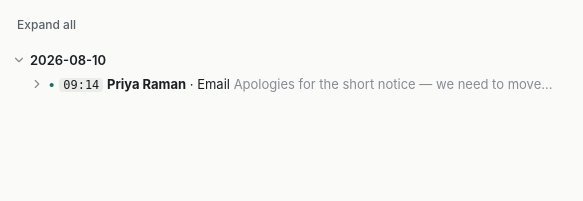
Scenario: a log of records › folds the records when told to fold all, and leaves the days standing
This screenshot has width=583, height=201.
What coordinates should you click on to do the following:
click the button with aria-label "Expand all points in Log"
I would click on:
 (46, 25)
Its box is [12,12,81,38].
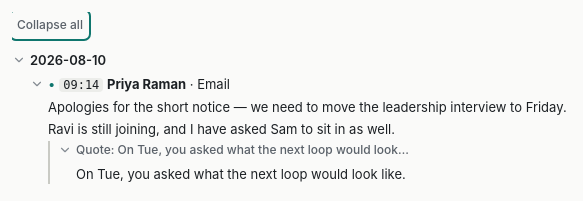
Now the text "Ravi is still joining" is shown, box [48,121,395,137]
What coordinates should you click on to do the following:
click the button with aria-label "Collapse all points in Log"
I would click on:
 (50, 25)
Its box is [12,12,88,38].
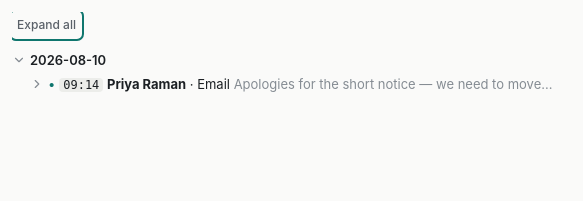
Expected: the heading "2026-08-10" is shown, [12,52,106,68]
Now the text "Ravi is still joining" is gone
